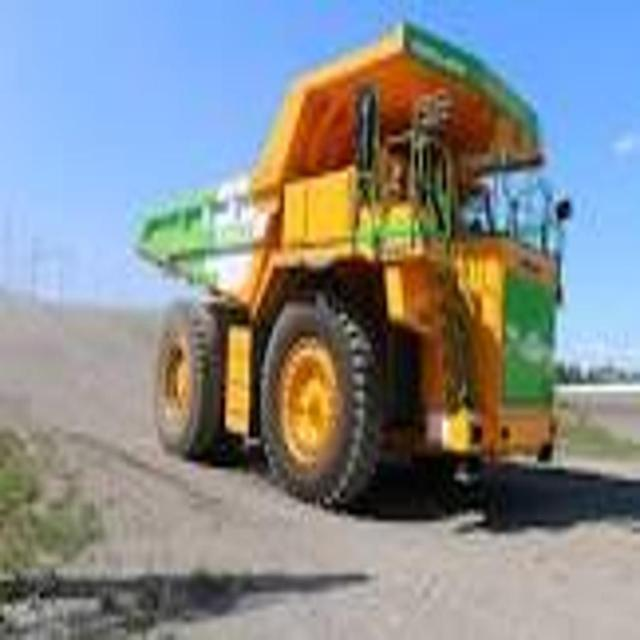dump_truck: (148, 15, 572, 527)
